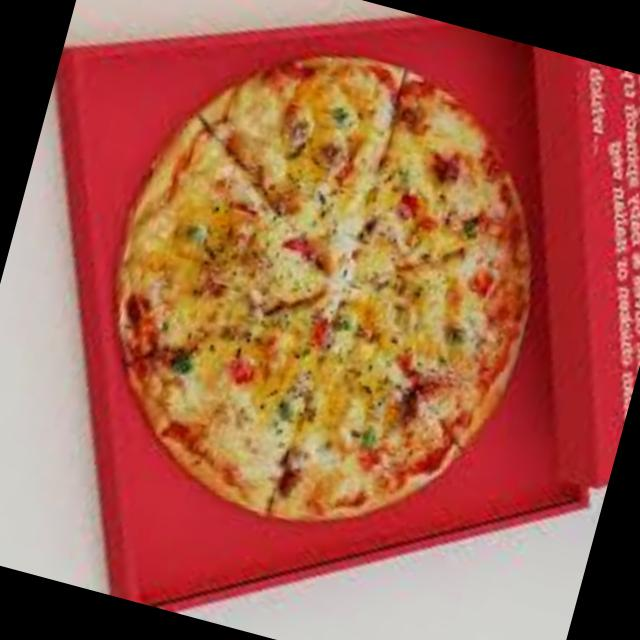cardboard paper: (58, 18, 640, 613)
